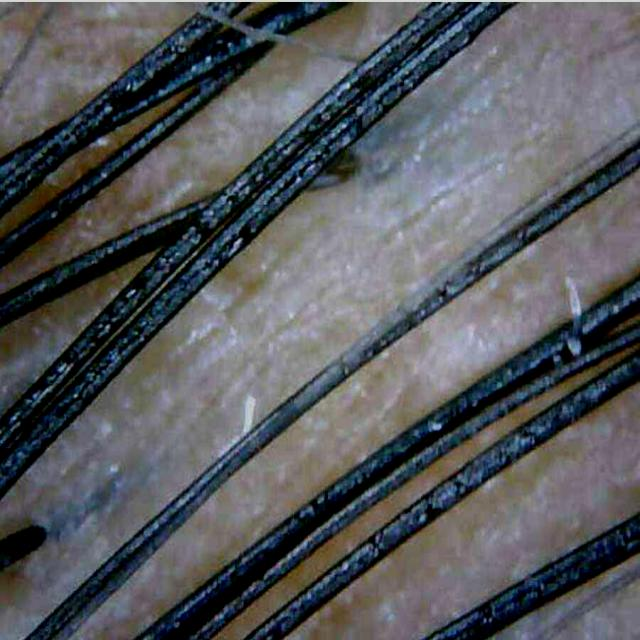d: (565, 276, 586, 350)
